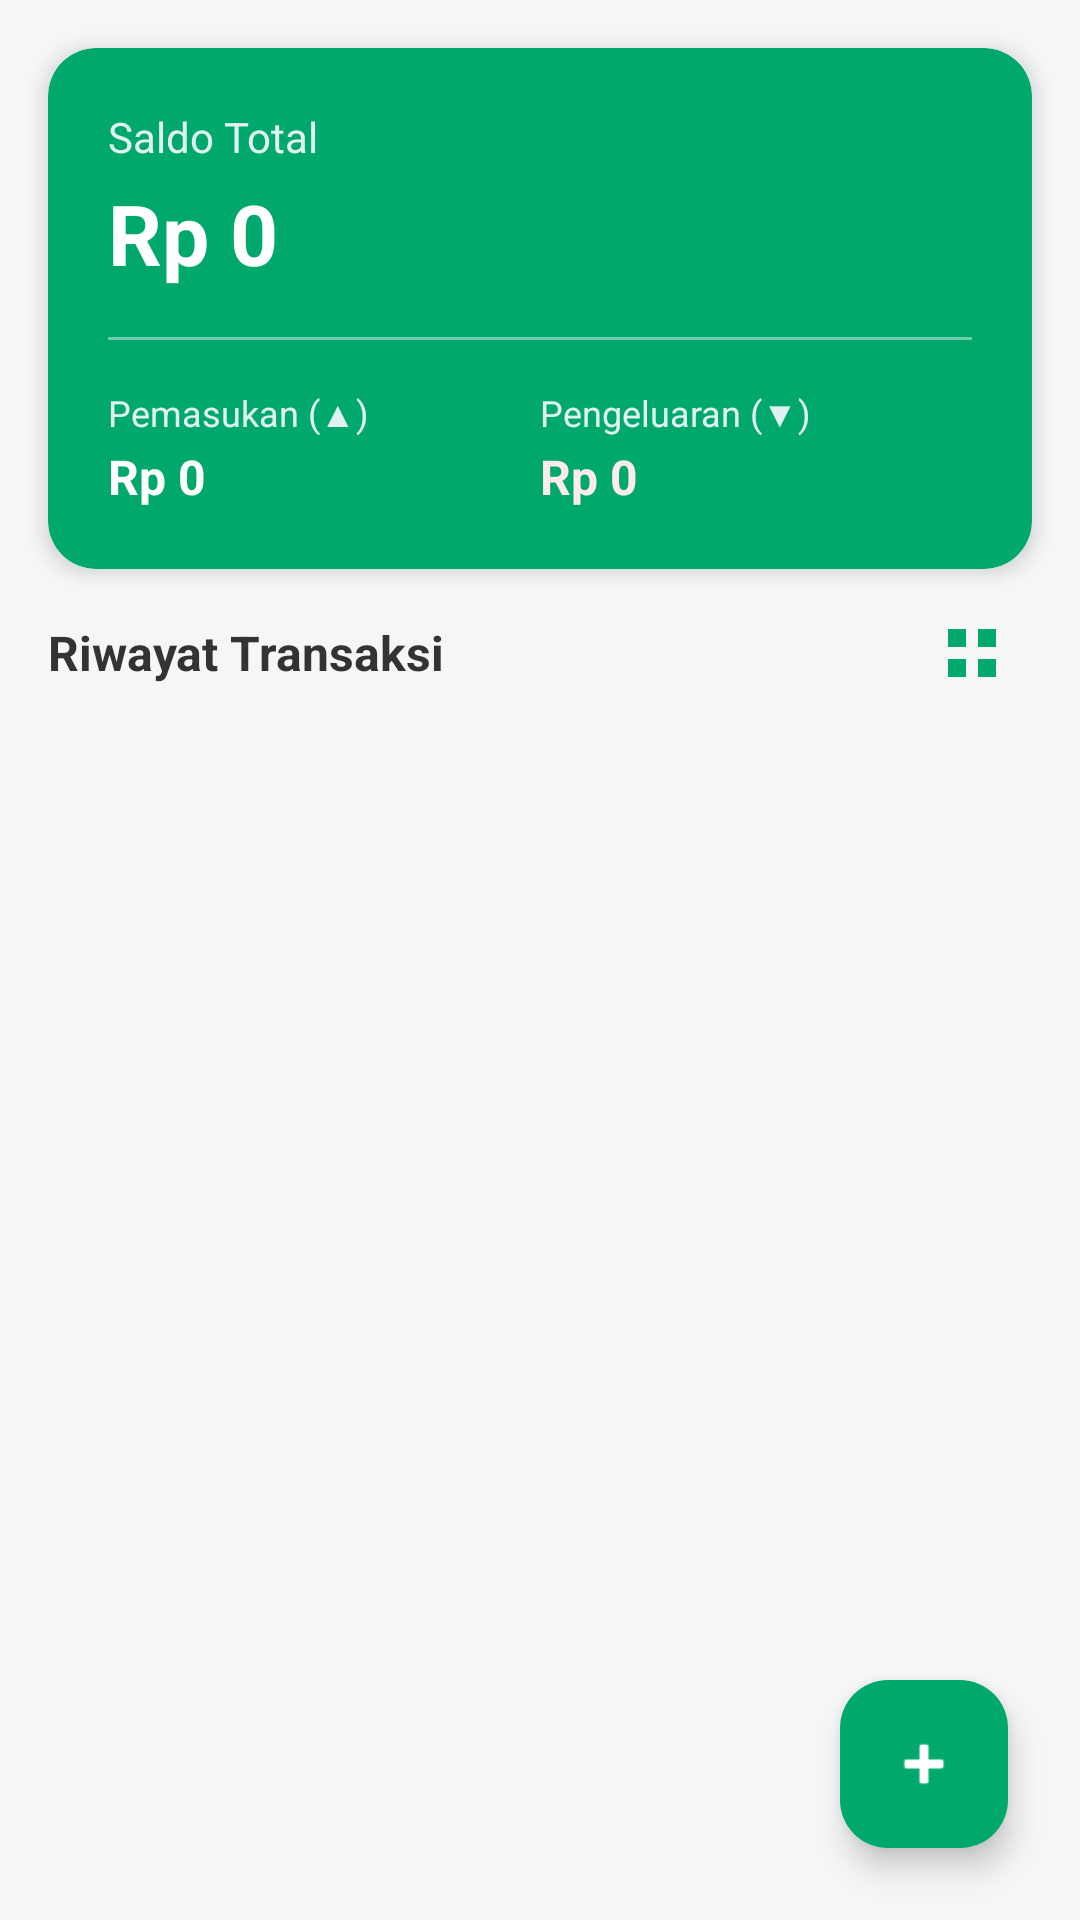

Screen size 1080px×1920px. Icon name, then its box in pixels as (x1, y1, x2, y2):
Tambah Transaksi: (840, 1680, 1008, 1848)
Ubah Tampilan Layout: (948, 629, 996, 677)
